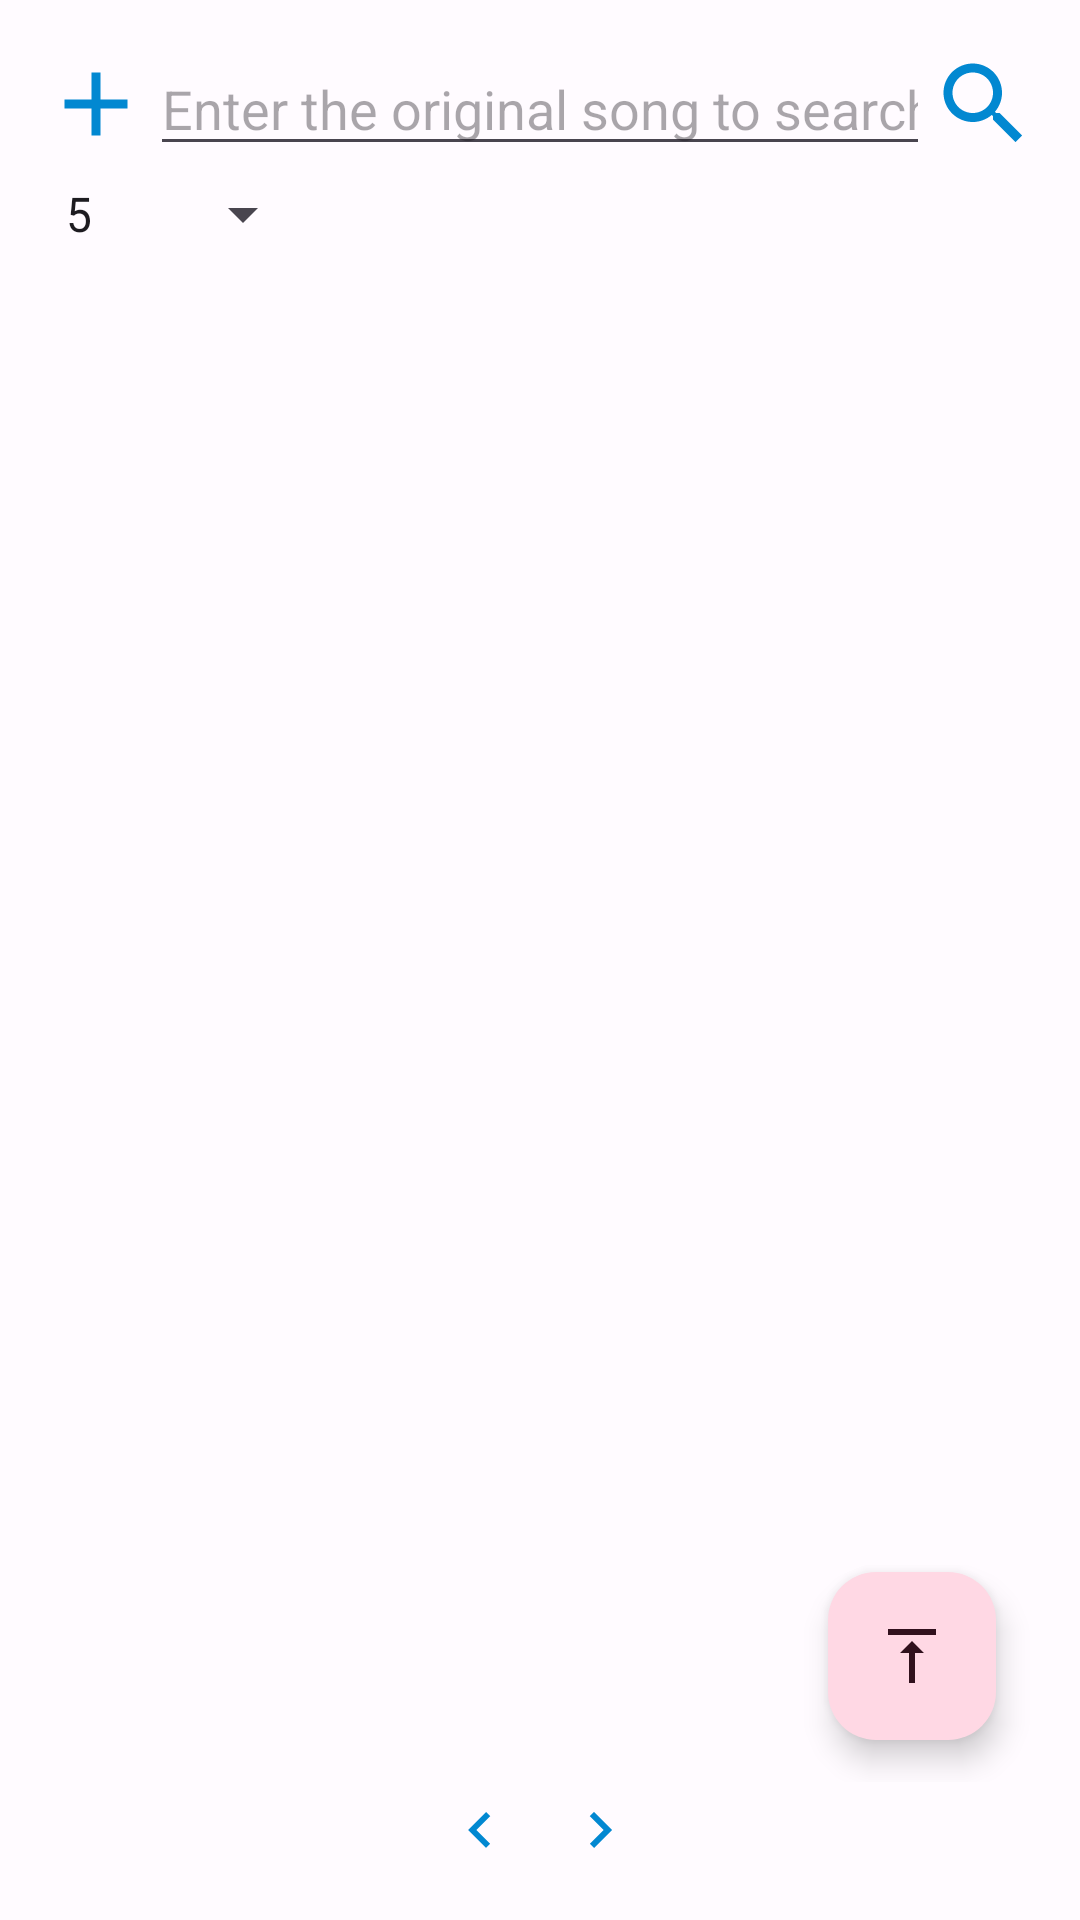

Locate icon controls on the screen. Image size 1080×1920, boxes as (x1, y1, x2, y2).
add: (64, 72, 128, 136)
Go top: (828, 1572, 996, 1740)
next: (590, 1812, 612, 1848)
priv: (468, 1812, 490, 1848)
